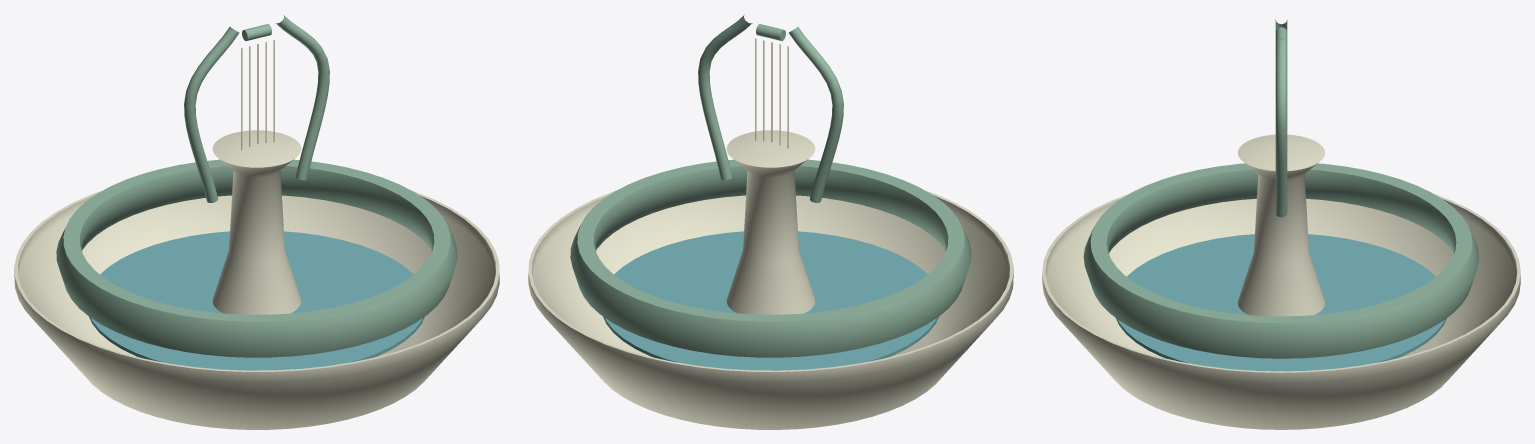
Rendered from enchanted-harp-garden-and-music-sanctuary-harp-fountai-b39d716e__30400.glb.
3 renders of one model, left to right at view 1: azimuth 30°, elevation 25°; view 2: azimuth 150°, elevation 25°; view 3: azimuth 270°, elevation 25°, orthographic.
Parts seen in each view (by area): view 1: harp-fountain-basin; view 2: harp-fountain-basin; view 3: harp-fountain-basin.
Part boxes in pixels (left/top/right/bottom): harp-fountain-basin: left=14, top=15, right=499, bottom=429; harp-fountain-basin: left=528, top=15, right=1013, bottom=429; harp-fountain-basin: left=1042, top=19, right=1520, bottom=429.
Bounding box in the file's own units: 2.08 × 1.6 × 2.08.
